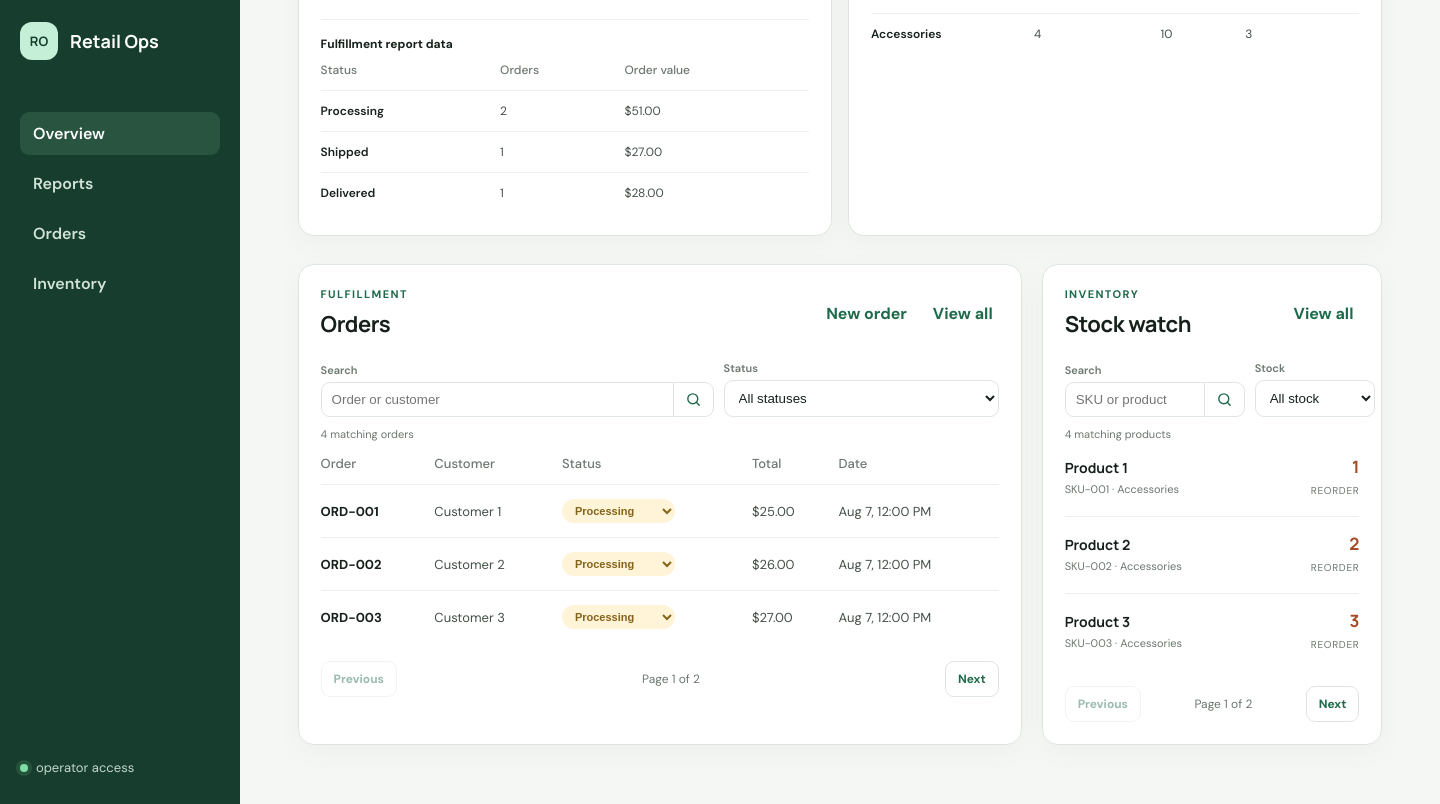
Test: App › applies order search and resets the status filter
The image size is (1440, 804).
(page scrolled)
Check: the text "ORD-001" is shown, box top-left (321, 484), bottom-right (434, 538)
Type "Customer 1" into the 1st field with placeholder "Order or customer" at {"x": 497, "y": 400}, box top-left (321, 382), bottom-right (674, 417)
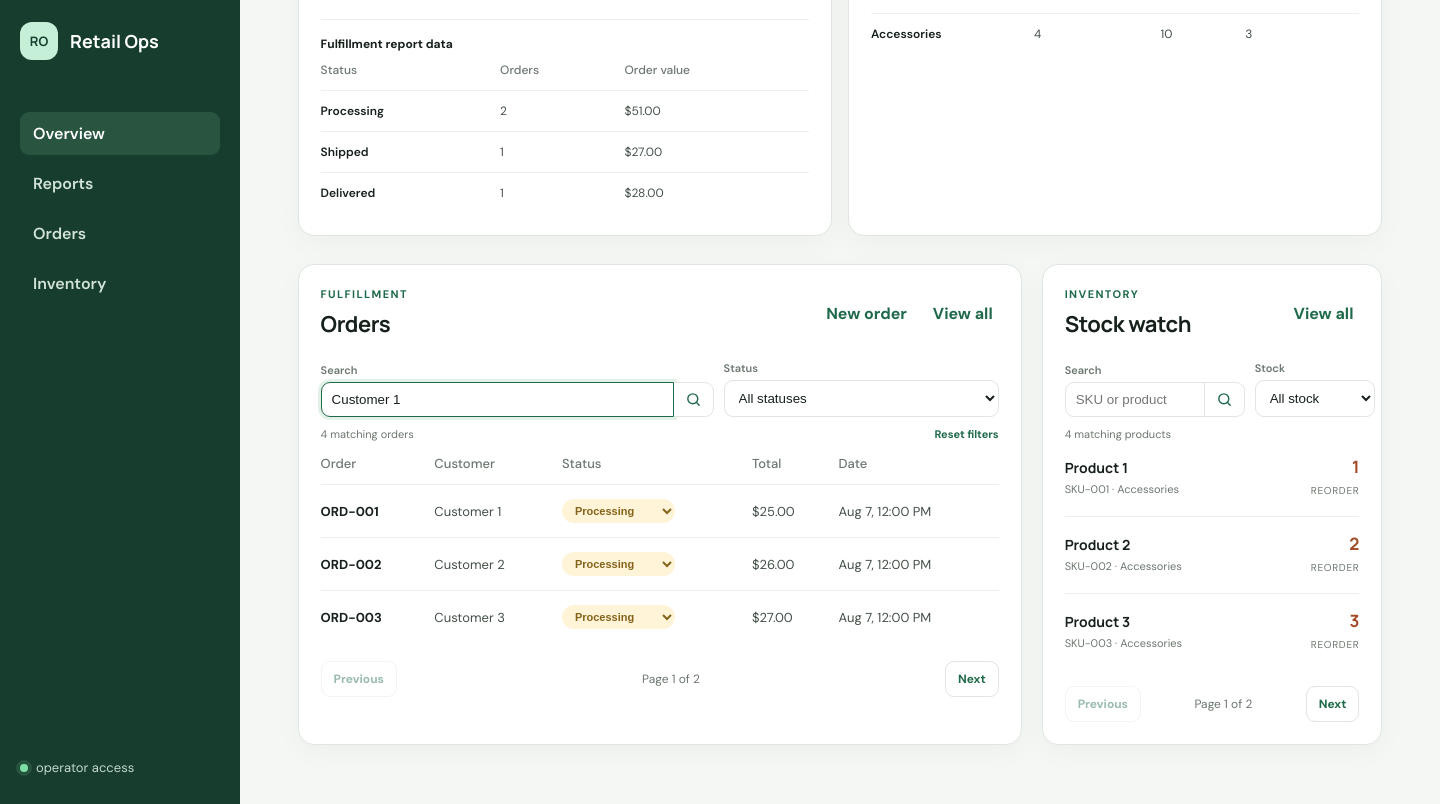
Select "Processing" in the dropdown labelled "Status" at {"x": 861, "y": 398}, box top-left (724, 380), bottom-right (999, 417)
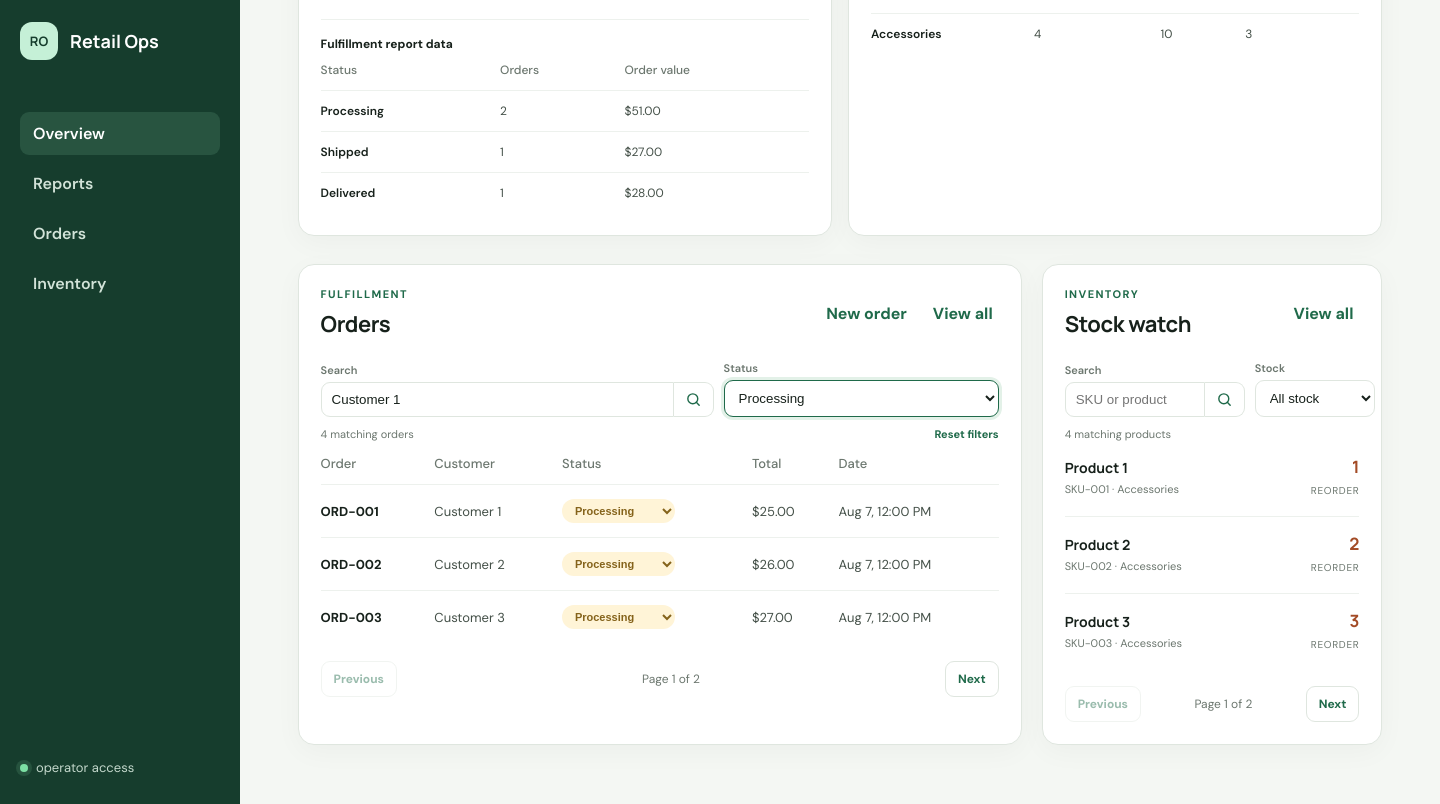
Click the button named "Apply order search" at {"x": 694, "y": 400}, box top-left (674, 382), bottom-right (714, 417)
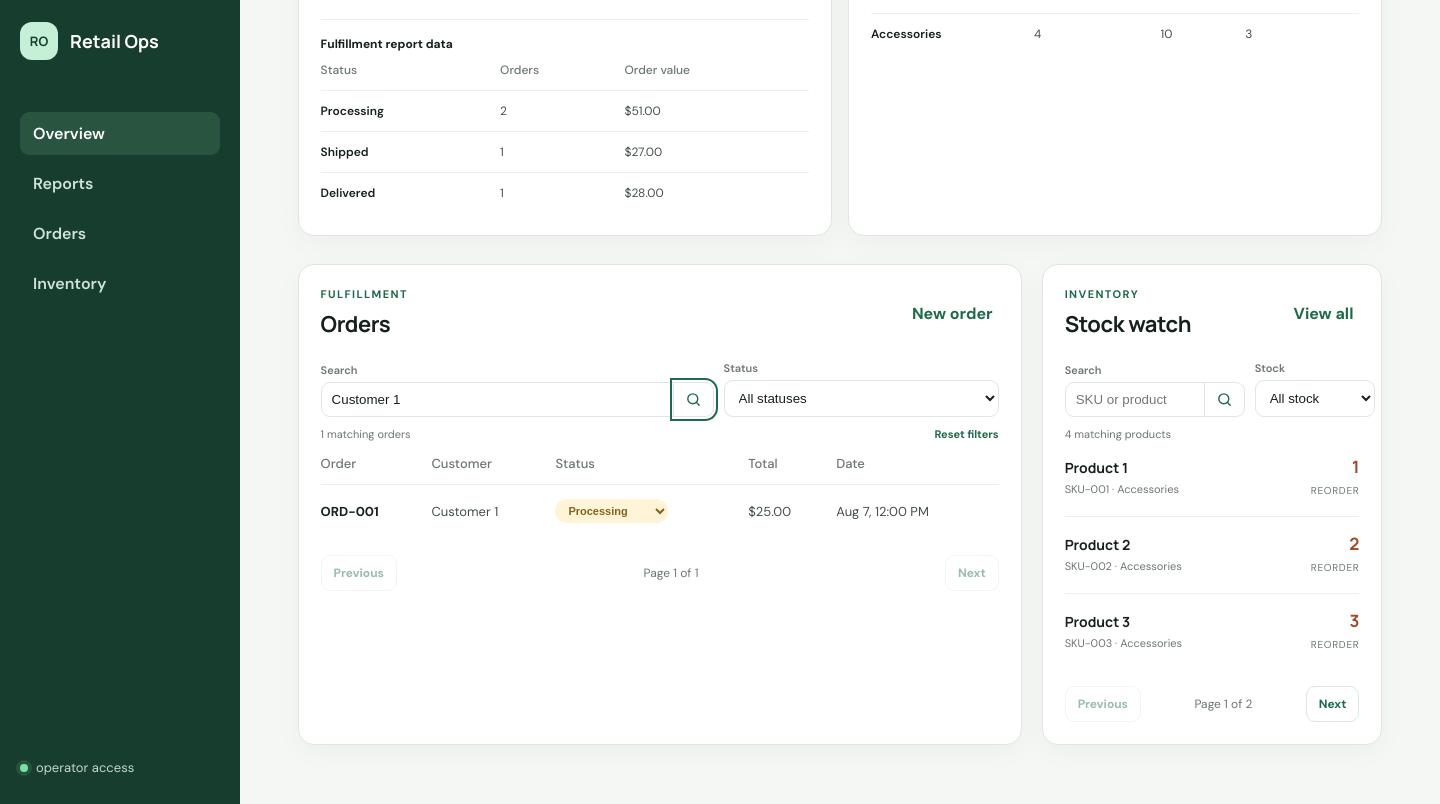
Check: the text "1 matching orders" is shown, box top-left (321, 427), bottom-right (410, 441)
Click the button with aria-label "Reset order filters" at {"x": 966, "y": 434}, box top-left (934, 427), bottom-right (999, 441)
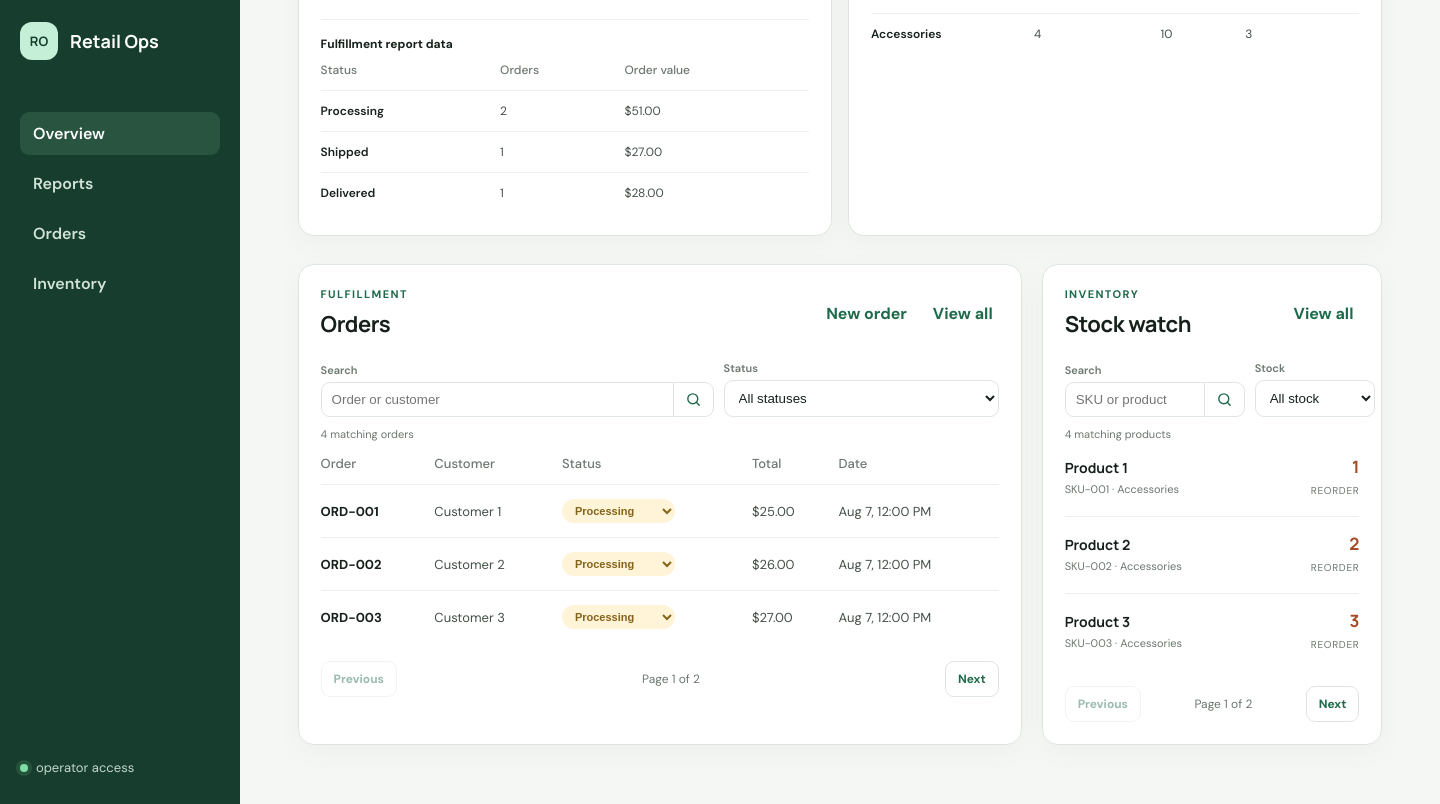
Check: the 1st field with placeholder "Order or customer" is empty, box top-left (321, 382), bottom-right (674, 417)
